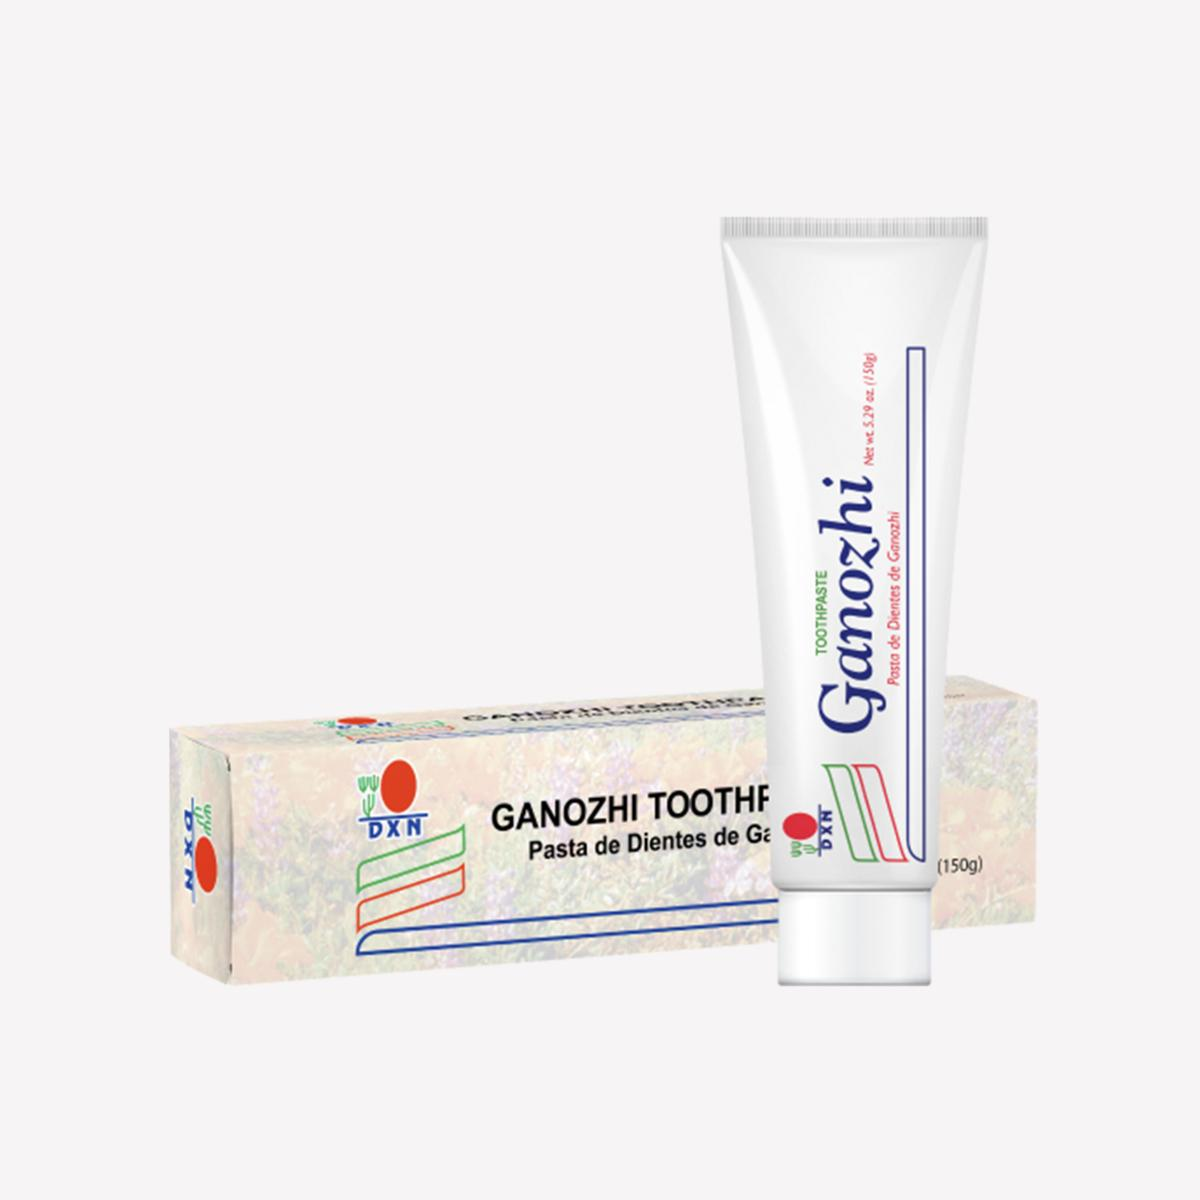toothpaste: (699, 168, 999, 1007)
